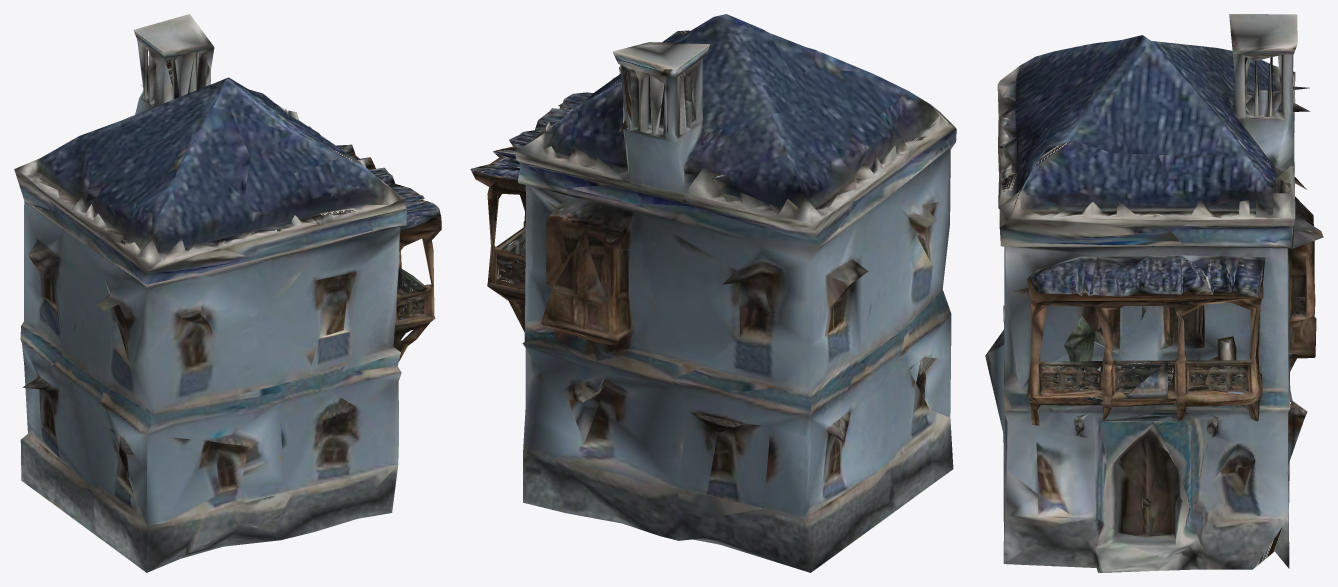
Rendered from house_merchant_0.glb.
The picture shows the model from 3 angles, left to right: view 1: azimuth 30°, elevation 25°; view 2: azimuth 150°, elevation 25°; view 3: azimuth 270°, elevation 25°; orthographic projection. The views are drawn at different scales.
Visible parts, largest first — view 1: tripo_node_e8c3637a-7642-41ce-a474-6af97cdf0c9b; view 2: tripo_node_e8c3637a-7642-41ce-a474-6af97cdf0c9b; view 3: tripo_node_e8c3637a-7642-41ce-a474-6af97cdf0c9b.
Part boxes in pixels (<box>): tripo_node_e8c3637a-7642-41ce-a474-6af97cdf0c9b: <box>14,14,441,572</box>; tripo_node_e8c3637a-7642-41ce-a474-6af97cdf0c9b: <box>470,14,956,572</box>; tripo_node_e8c3637a-7642-41ce-a474-6af97cdf0c9b: <box>985,14,1323,572</box>.
Size of the model in its own units: 0.7598 by 0.9274 by 0.5927.
1 material, 1 textured.
